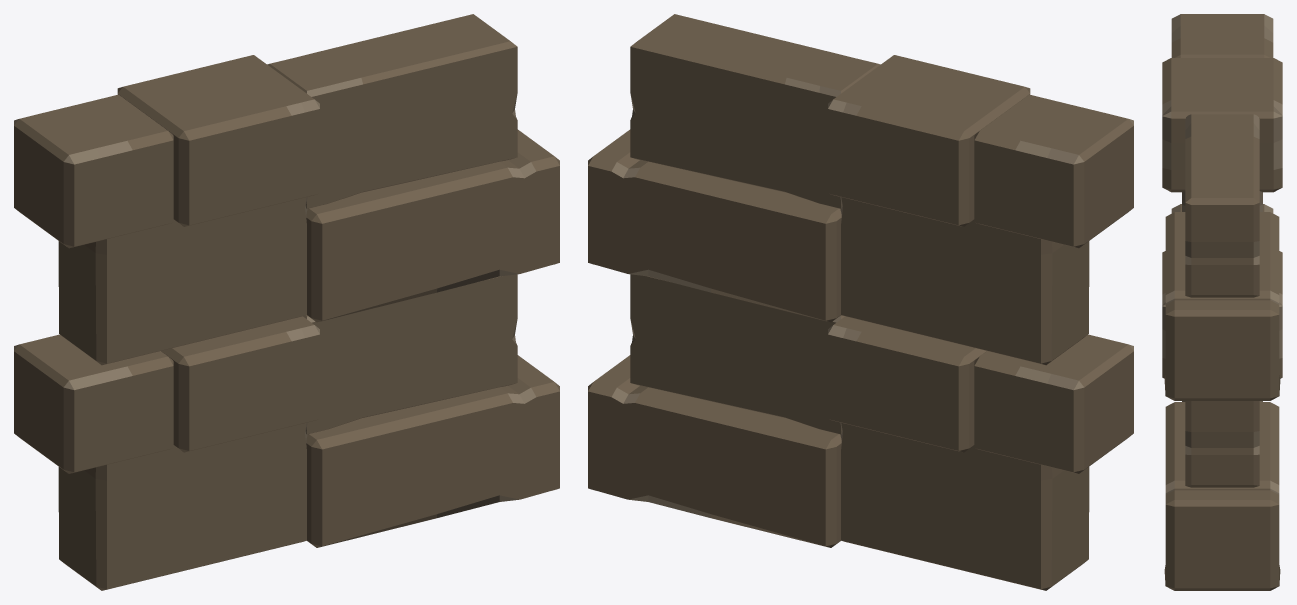
Rendered from Decorative_Wall.glb.
3 views of the same model, side by side, from view 1: azimuth 30°, elevation 25°; view 2: azimuth 150°, elevation 25°; view 3: azimuth 270°, elevation 25° (orthographic). The views are drawn at different scales.
Visible parts, largest first — view 1: Decorative_Wall; view 2: Decorative_Wall; view 3: Decorative_Wall.
Boxes of the visible parts, bbox=[...] form: Decorative_Wall: bbox=[14, 14, 559, 590]; Decorative_Wall: bbox=[588, 14, 1133, 590]; Decorative_Wall: bbox=[1162, 14, 1282, 590].
Size of the model in its own units: 0.8696 by 0.7611 by 0.2189.
